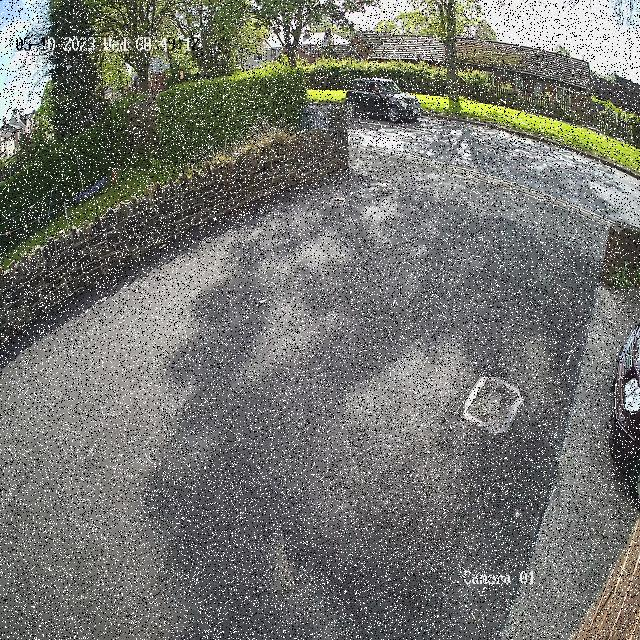vehicle: (341, 68, 430, 134)
